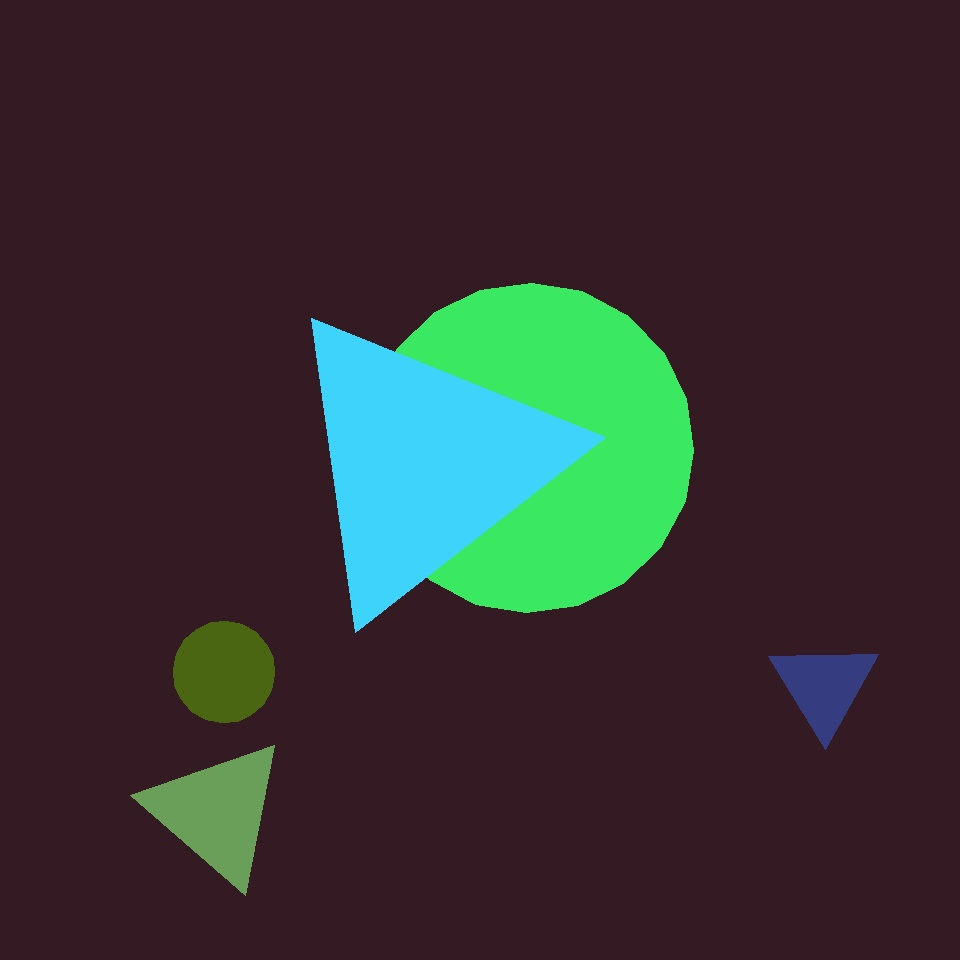circle: (277, 306, 571, 620), (145, 737, 289, 887), (769, 640, 879, 734)
triangle: (364, 284, 694, 612), (174, 622, 274, 722)
